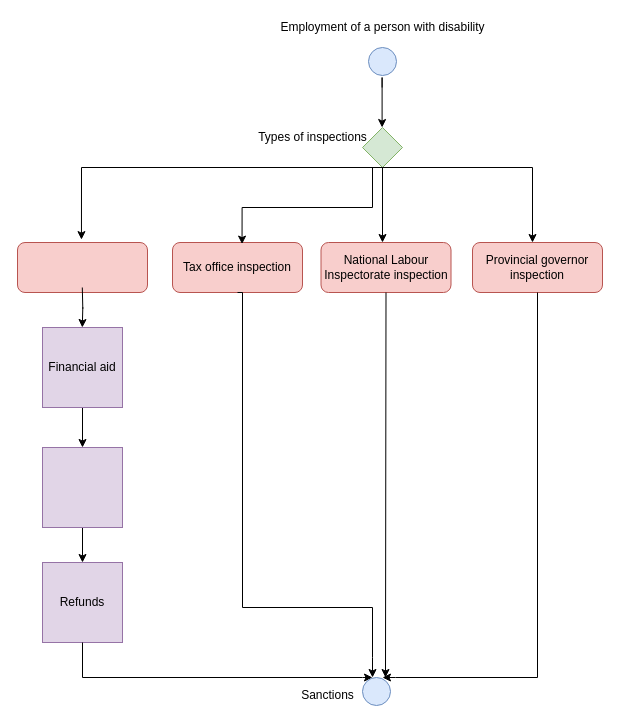
This 620x723 diagram has some shape labels left out. The shapes that lost their labels are listed below. From the top down, each one's centre as x and y in pixels, then its label:
At (x=82, y=267): "PFRON inspection".
At (x=82, y=487): "Reliefs".
